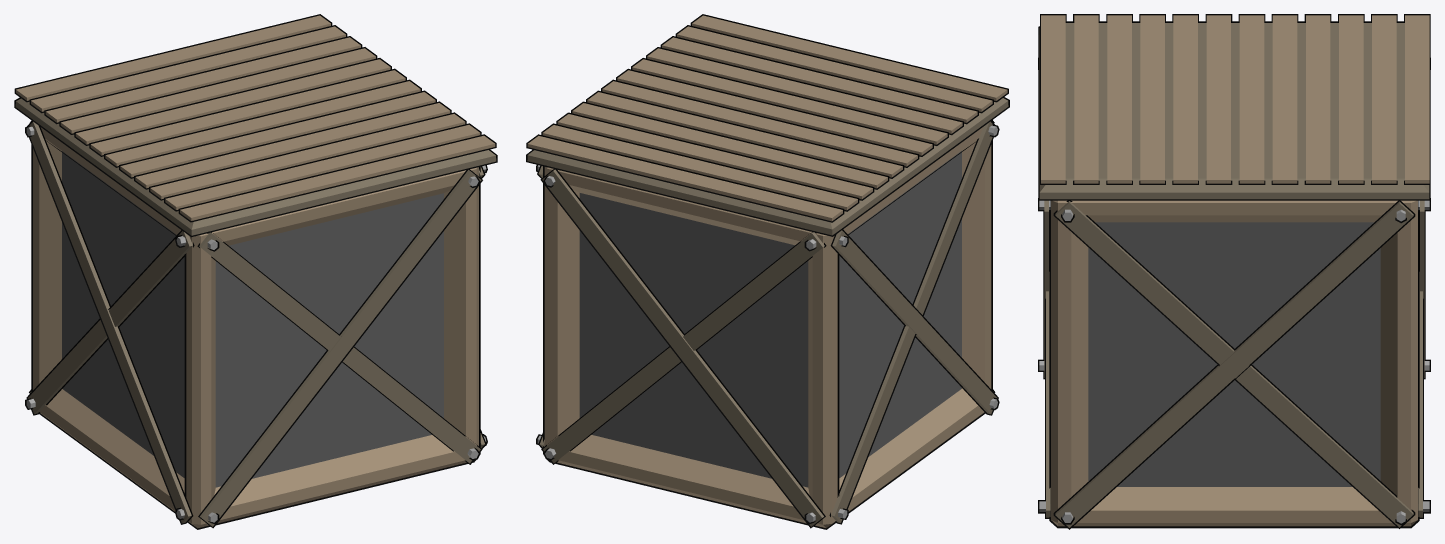
Rendered from Platform1.fbx.
3 renders of one model, left to right at view 1: azimuth 30°, elevation 25°; view 2: azimuth 150°, elevation 25°; view 3: azimuth 270°, elevation 25°, orthographic. The views are drawn at different scales.
Visible parts, largest first — view 1: Cube; view 2: Cube; view 3: Cube.
Boxes of the visible parts, x1,y1,x2,y2 form: Cube: (14, 14, 497, 529); Cube: (526, 14, 1009, 529); Cube: (1038, 14, 1430, 529).
Bounding box in the file's own units: 212 × 212 × 212.
